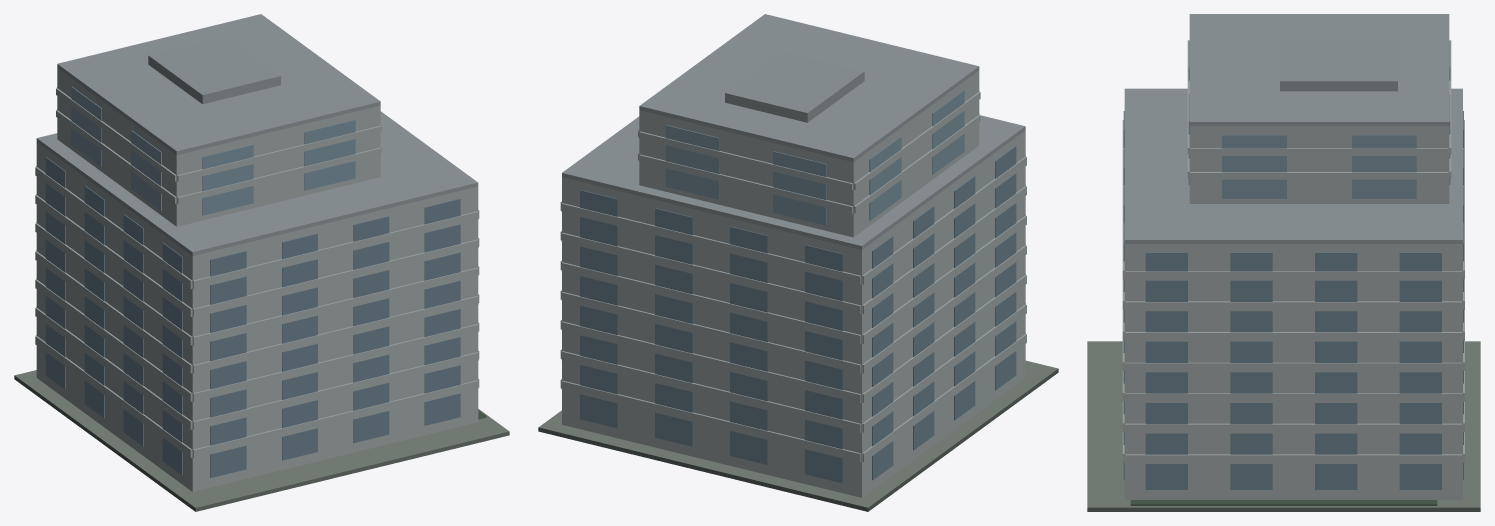
The model's file is residential-twins.glb.
3 renders of one model, left to right at view 1: azimuth 30°, elevation 25°; view 2: azimuth 150°, elevation 25°; view 3: azimuth 270°, elevation 25°, orthographic. The views are drawn at different scales.
Parts seen in each view (by area): view 1: residential-twins; view 2: residential-twins; view 3: residential-twins.
Part boxes in pixels (left/top/right/bottom): residential-twins: left=14, top=14, right=509, bottom=511; residential-twins: left=538, top=14, right=1058, bottom=511; residential-twins: left=1087, top=14, right=1480, bottom=511.
Size of the model in its own units: 1 by 1 by 1.
